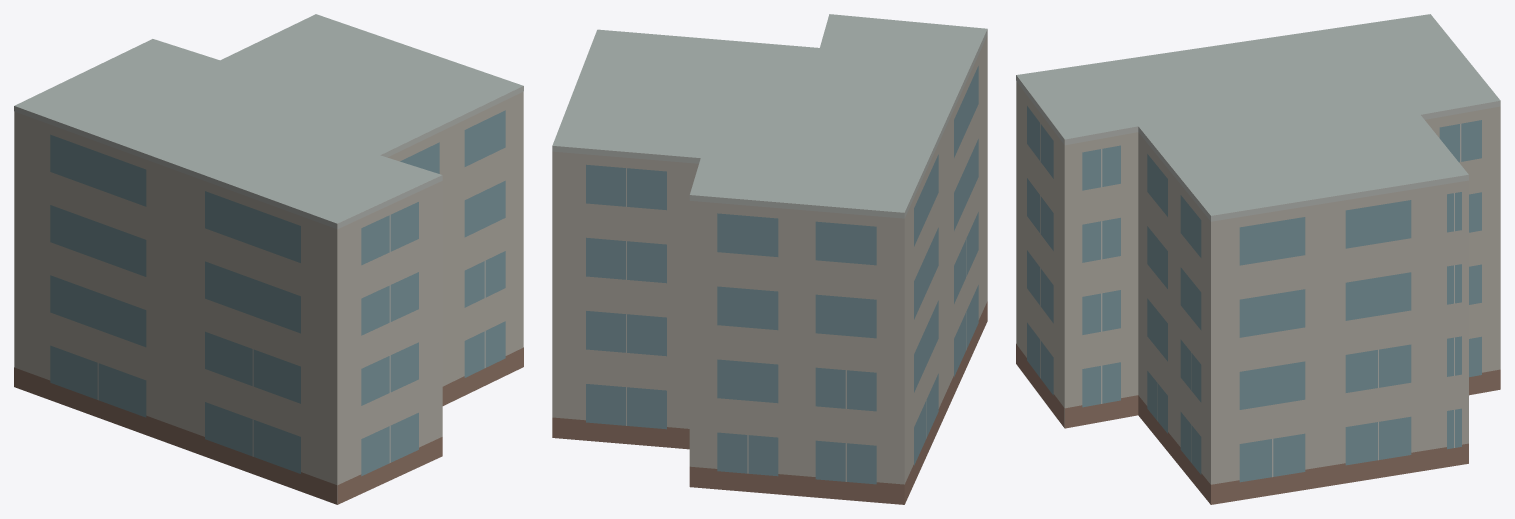
The model's file is survey-upis-32863926.glb.
3 renders of one model, left to right at view 1: azimuth 30°, elevation 25°; view 2: azimuth 150°, elevation 25°; view 3: azimuth 270°, elevation 25°, orthographic. The views are drawn at different scales.
Visible parts, largest first — view 1: survey-upis-32863926.tmp; view 2: survey-upis-32863926.tmp; view 3: survey-upis-32863926.tmp.
Part boxes in pixels (x1,y1,x2,y2): survey-upis-32863926.tmp: (14, 14, 523, 504); survey-upis-32863926.tmp: (552, 14, 987, 504); survey-upis-32863926.tmp: (1016, 14, 1500, 504).
Size of the model in its own units: 18.3 by 12.2 by 18.55.
